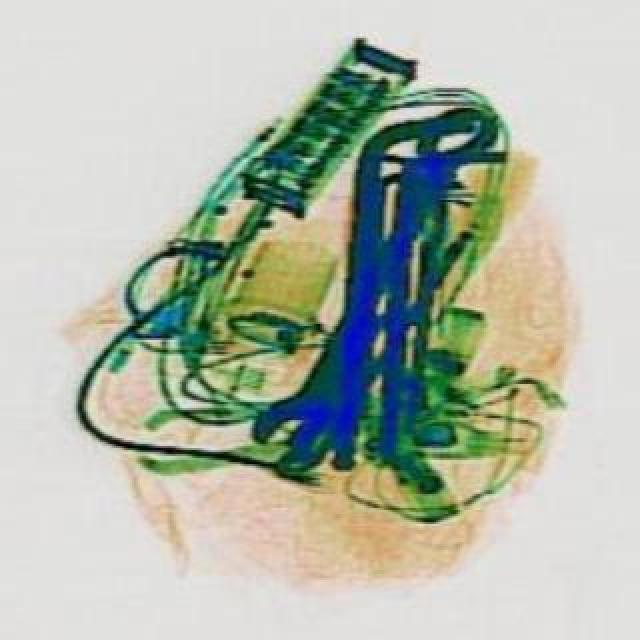scissors: (250, 296, 398, 472)
